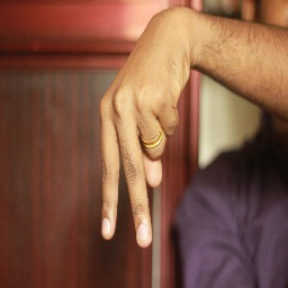Y: (94, 65, 179, 252)
